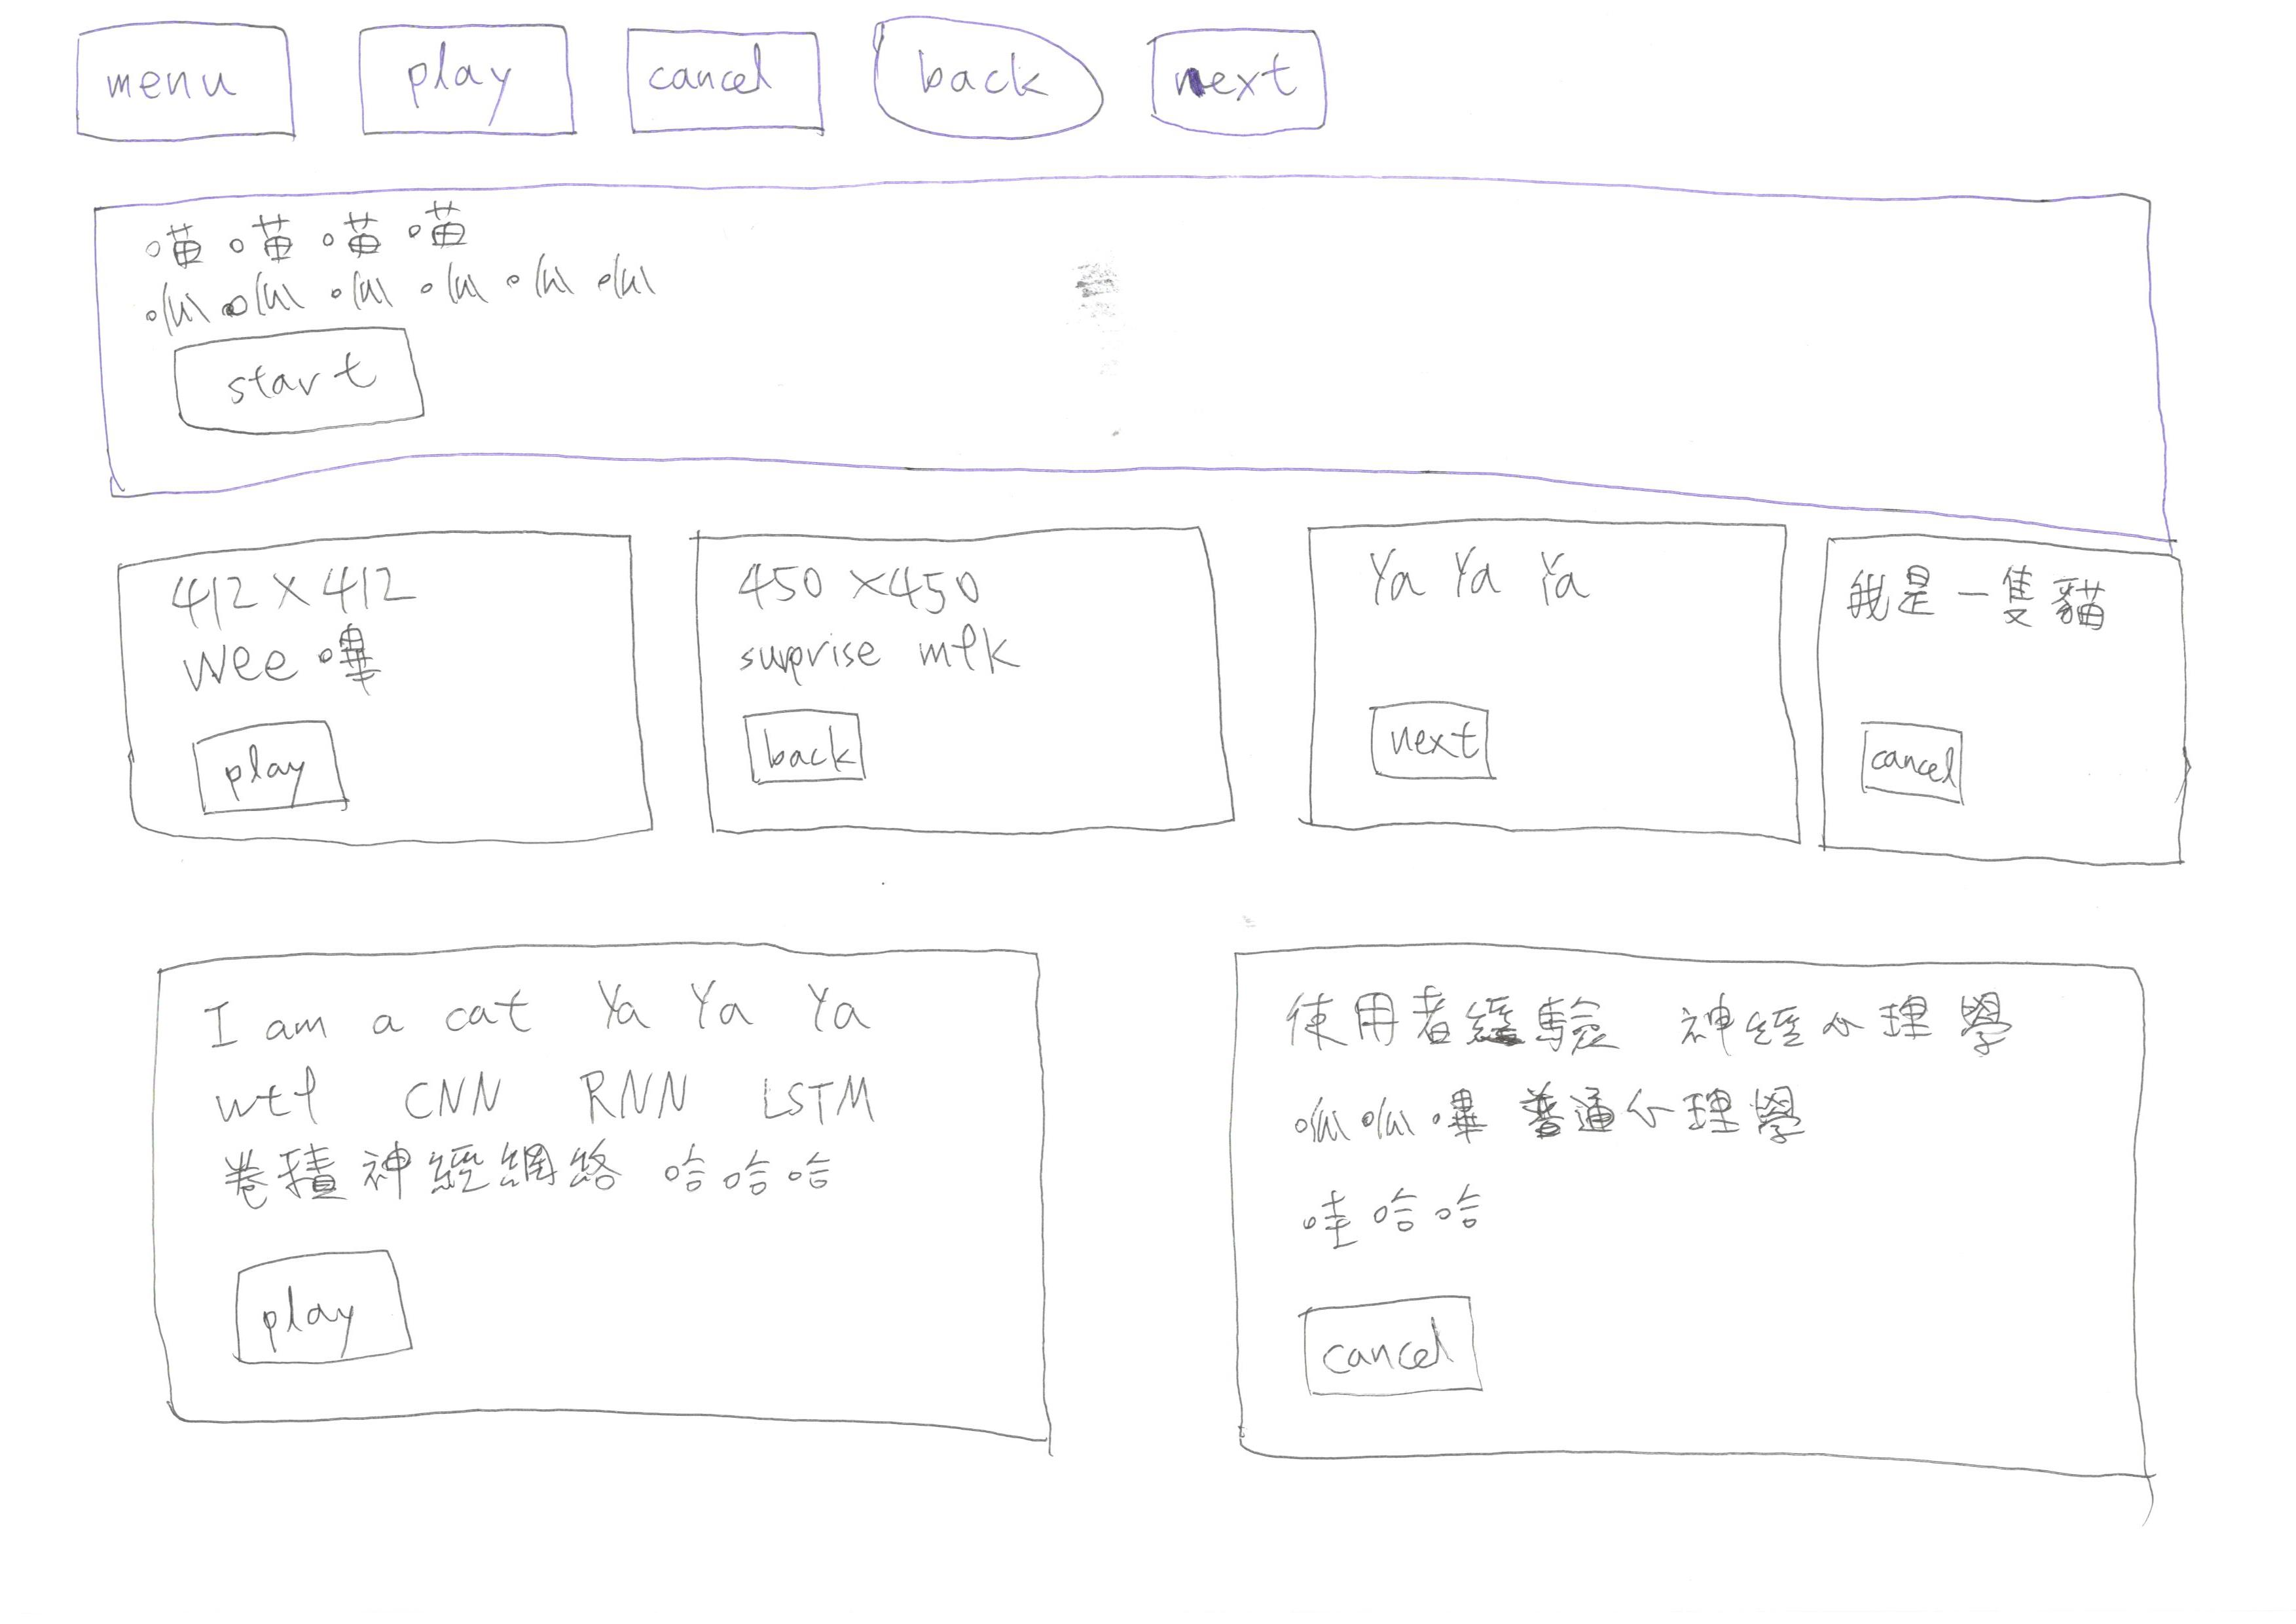back: (856, 7, 1120, 170), (726, 692, 888, 801)
cancel: (605, 5, 847, 160), (1282, 1276, 1501, 1417)
double: (128, 910, 1108, 1490), (1197, 926, 2175, 1506)
menu: (54, 5, 325, 160)
next: (1125, 2, 1357, 156)
play: (336, 4, 599, 151), (206, 1230, 434, 1385), (178, 710, 389, 835)
quadruple: (86, 490, 677, 884), (668, 497, 1257, 889), (1259, 487, 1813, 896), (1806, 506, 2296, 912)
row: (16, 898, 2296, 1561), (16, 464, 2296, 893), (16, 165, 2296, 592), (16, 0, 2296, 193)
single: (63, 151, 2264, 568)
small-title: (167, 972, 881, 1121), (1271, 970, 2025, 1076), (1858, 557, 2125, 659), (716, 550, 997, 631), (1354, 536, 1626, 605), (142, 211, 476, 264), (163, 562, 408, 606)
start: (139, 318, 447, 459)
text: (1290, 1069, 1865, 1243), (227, 1125, 863, 1211), (146, 255, 666, 334), (162, 626, 394, 714), (733, 620, 1025, 685)
